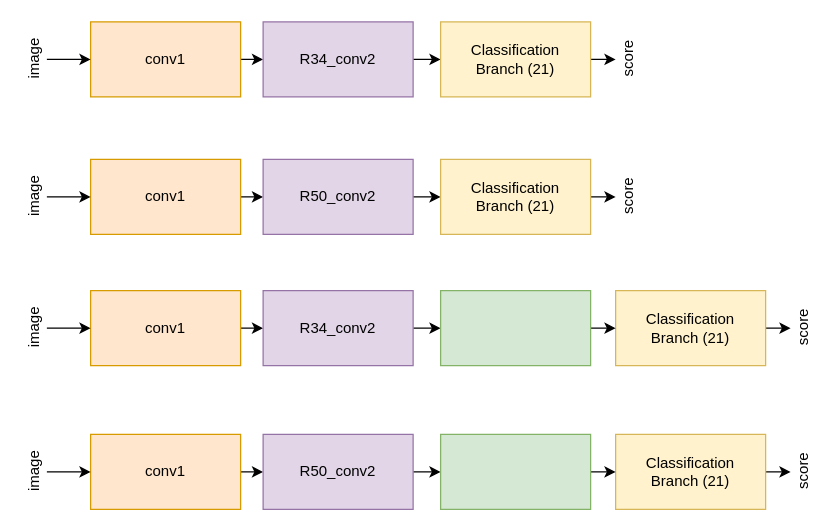
The diagram is 836 pixels wide and 531 high, and some of its shapes have lost their labels. Here are the shapes that lost their labels. From the top down, the box of each, then its label:
(439, 289, 591, 366): R34_conv3
(439, 433, 591, 509): R50_conv3
